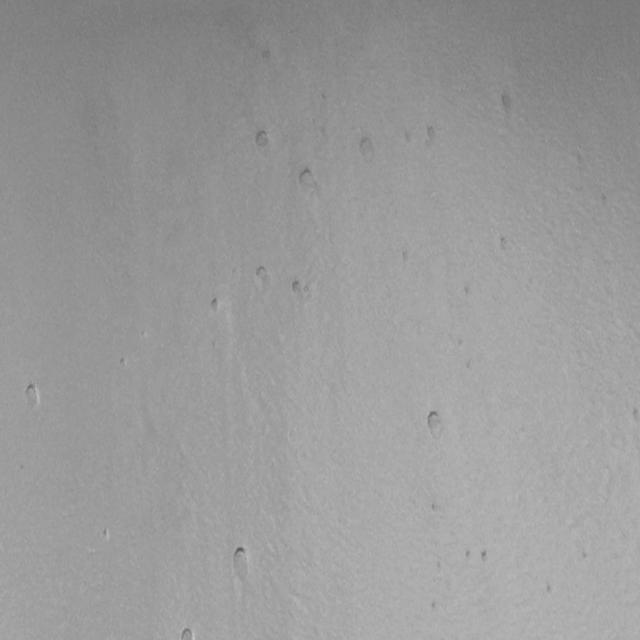pin holes: (228, 545, 253, 583), (422, 409, 446, 441), (495, 90, 518, 123), (21, 382, 44, 414), (357, 134, 380, 164), (250, 263, 273, 292), (250, 127, 274, 154), (295, 166, 318, 193), (421, 122, 442, 150), (287, 278, 309, 302), (396, 248, 416, 270), (398, 126, 418, 148), (208, 294, 227, 316), (495, 233, 514, 254), (179, 626, 199, 640), (463, 547, 478, 565), (479, 547, 493, 566), (544, 580, 558, 598), (117, 356, 130, 373), (99, 527, 111, 544), (430, 500, 444, 514), (430, 598, 442, 614), (633, 403, 640, 424), (463, 282, 471, 298)
